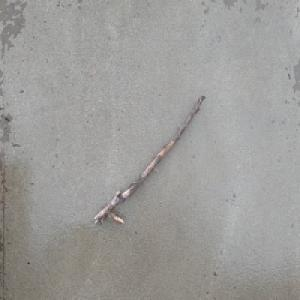Wood: (92, 93, 206, 227)
